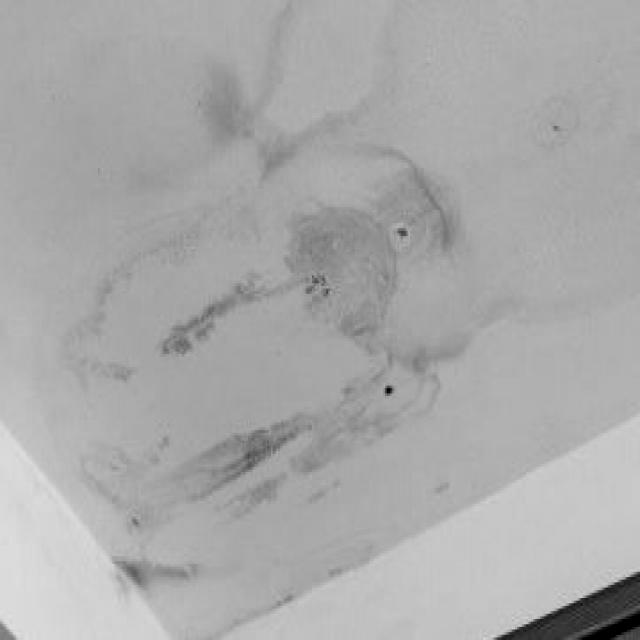pin holes: (381, 204, 421, 258), (371, 376, 417, 409), (550, 114, 575, 137)
stain marks: (288, 131, 471, 370), (195, 6, 294, 178), (164, 412, 319, 502), (153, 271, 293, 361), (322, 371, 452, 464), (122, 197, 262, 272), (54, 278, 134, 394), (82, 441, 160, 509), (528, 94, 579, 151), (474, 289, 535, 331), (113, 557, 198, 584), (426, 480, 452, 498)
